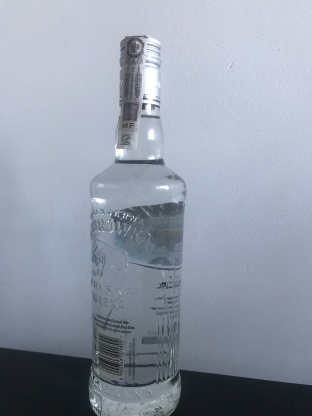nakretka: (116, 31, 163, 110)
